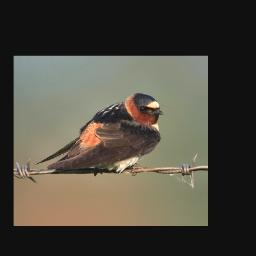Swallow: (34, 91, 164, 176)
